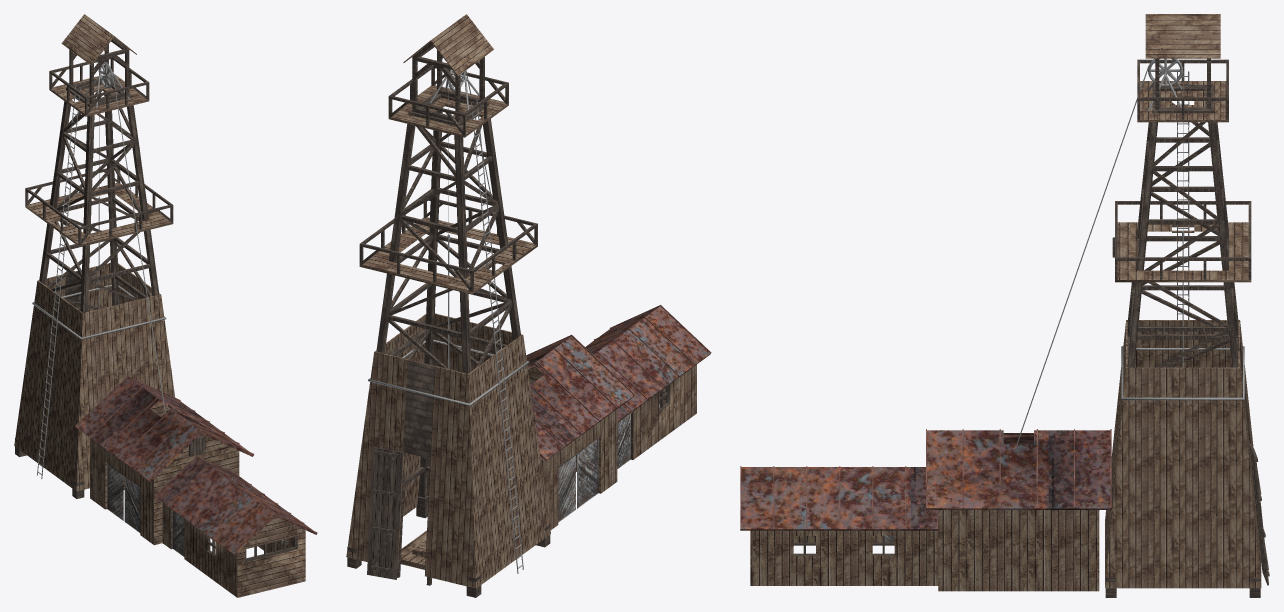
The model's file is oil_derrick_merged.obj.
3 views of the same model, side by side, from view 1: azimuth 30°, elevation 25°; view 2: azimuth 150°, elevation 25°; view 3: azimuth 270°, elevation 25° (orthographic). The views are drawn at different scales.
Visible parts, largest first — view 1: house, tower; view 2: house, tower; view 3: house, tower.
Part boxes in pixels (box(x1,y1,x2,y2)): house: box(14, 263, 317, 597); tower: box(15, 14, 173, 498); house: box(346, 305, 711, 588); tower: box(347, 14, 550, 597); house: box(740, 320, 1269, 591); tower: box(1016, 14, 1260, 597).
Bounding box in the file's own units: 5.56 × 20.43 × 17.78.
5 materials, 5 textured.
